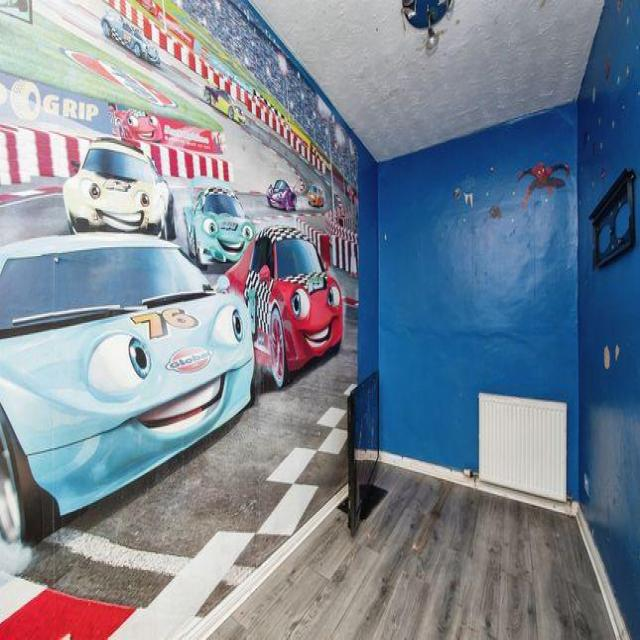Wall: (0, 0, 578, 638), (212, 465, 614, 639), (253, 0, 604, 160), (579, 259, 640, 638), (578, 0, 640, 268)
